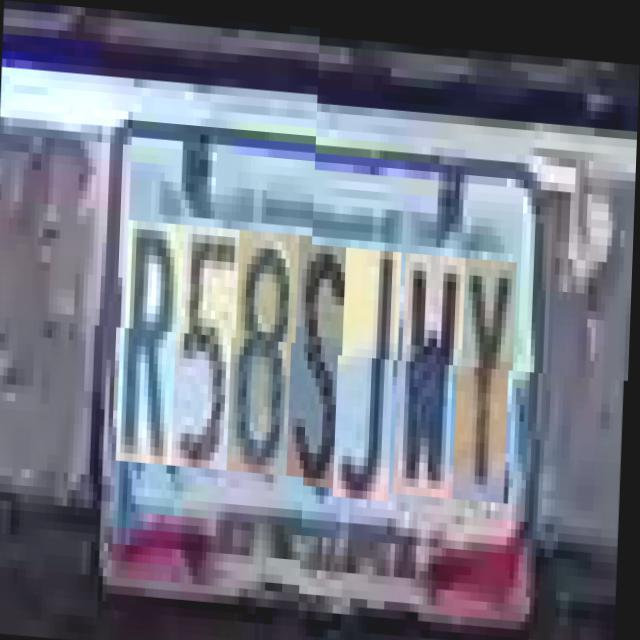5: (178, 230, 241, 474)
8: (234, 234, 301, 478)
J: (341, 241, 404, 494)
R: (123, 225, 186, 470)
S: (294, 238, 356, 482)
W: (400, 245, 467, 490)
Y: (460, 249, 518, 494)
